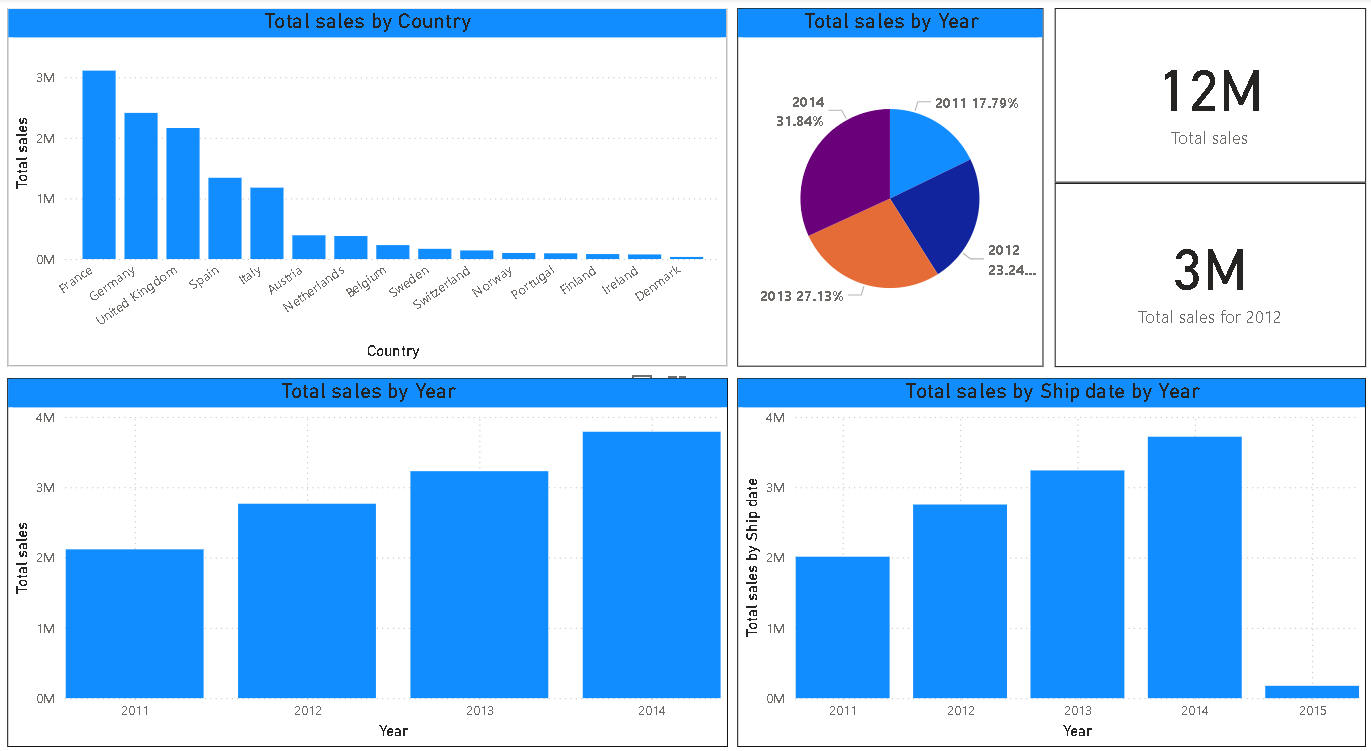

What the dashboard file says about the page in this screenshot:
{"tool":"powerbi","page":{"name":"DAX","canvas":[1280,720],"ordinal":0},"visuals":[{"type":"columnChart","fields":{"Y":["Sales.Total sales"],"Category":["Sales.Country"]},"box":[10.5,9.3,669.8,333.7],"z":0},{"type":"columnChart","fields":{"Y":["Sales.Total sales"],"Category":["DateTable.Year"]},"box":[10,353,670,343],"z":1000},{"type":"card","fields":{"Values":["Sales.Total sales"]},"box":[984.9,9.3,289.5,162.8],"z":2000},{"type":"card","fields":{"Values":["Sales.Total sales for 2012"]},"box":[984.9,172.1,289.5,170.9],"z":3000},{"type":"columnChart","fields":{"Category":["DateTable.Year"],"Y":["Sales.Total sales by Ship date"]},"box":[689.5,353.5,584.9,343],"z":4000},{"type":"pieChart","fields":{"Y":["Sales.Total sales"],"Series":["DateTable.Year"]},"box":[689.5,9.3,284.9,333.7],"z":4001}]}

Visuals, with their boxes in screenshot pixels (x1, y1, x2, y2), scaled from the page's 1280x720 canvas onto the 1371x751 screenshot:
columnChart - Sales.Total sales x Sales.Country: [11, 10, 729, 358]
columnChart - Sales.Total sales x DateTable.Year: [11, 368, 728, 726]
card - Sales.Total sales: [1055, 10, 1365, 180]
card - Sales.Total sales for 2012: [1055, 180, 1365, 358]
columnChart - DateTable.Year x Sales.Total sales by Ship date: [739, 369, 1365, 726]
pieChart - Sales.Total sales x DateTable.Year: [739, 10, 1044, 358]
